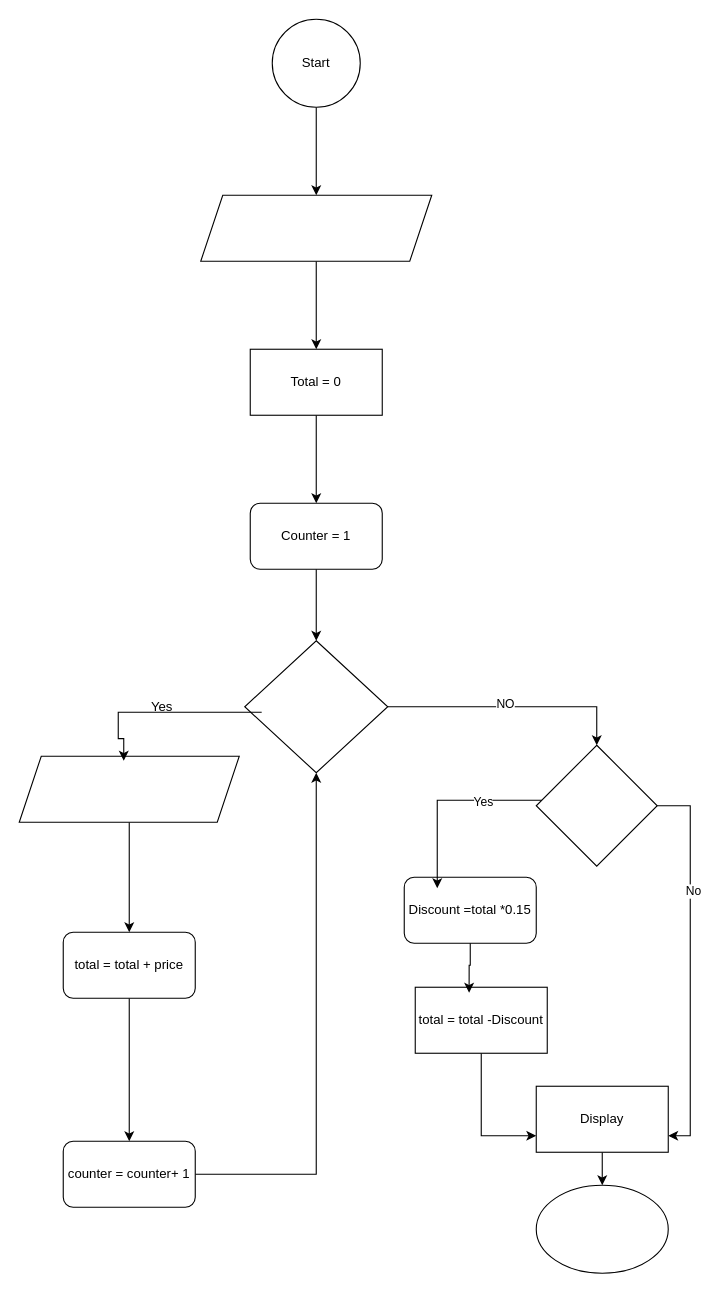
This 719x1293 diagram has some shape labels left out. The centre of each missing label's shape, as x and y in pixels:
"Counter <=n" goes at (316,706).
"Read number of items n" goes at (316,227).
"Read price of item counter" goes at (128,788).
"Total > 5000" goes at (596,805).
